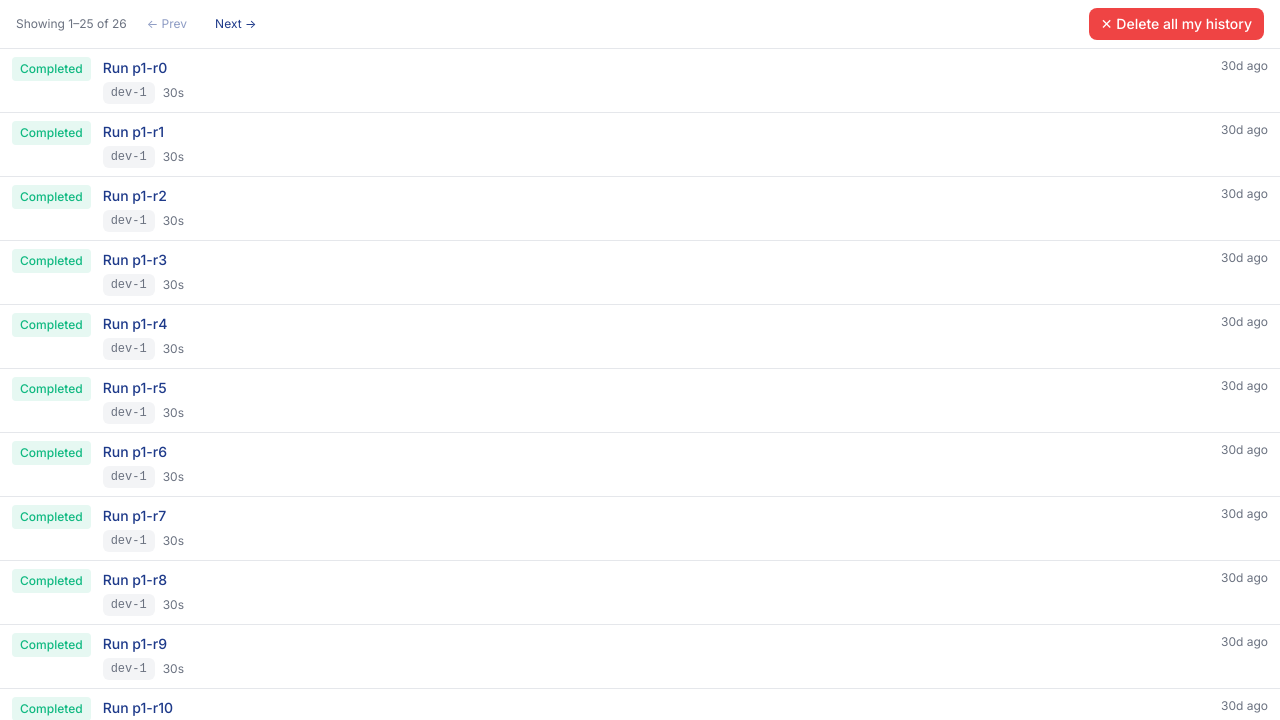
Test: ScenariosHistory › paginates forward when [Next →] is clicked
Check: the button with test id "history-row-p1-r0" is shown, box [0,49,1279,113]
Click the button with test id "history-next".
click(236, 24)  # box [207,11,264,37]
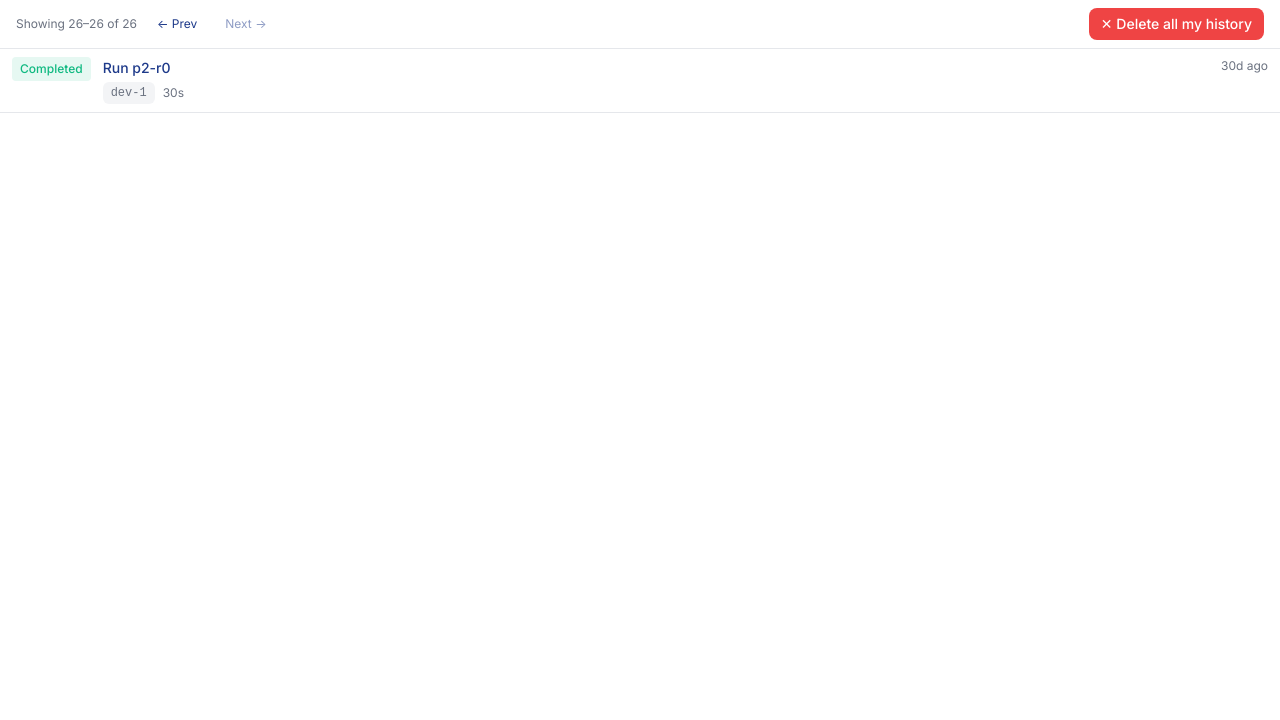
Check: the button with test id "history-row-p2-r0" is shown, box [0,49,1279,113]
